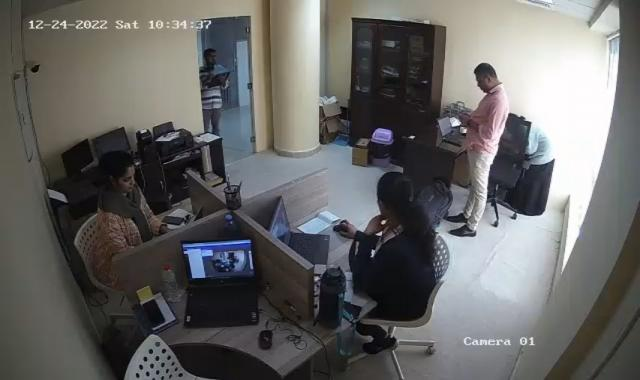no_hairnet: (376, 176, 414, 221), (103, 145, 137, 193), (474, 59, 497, 94), (200, 49, 222, 69)
